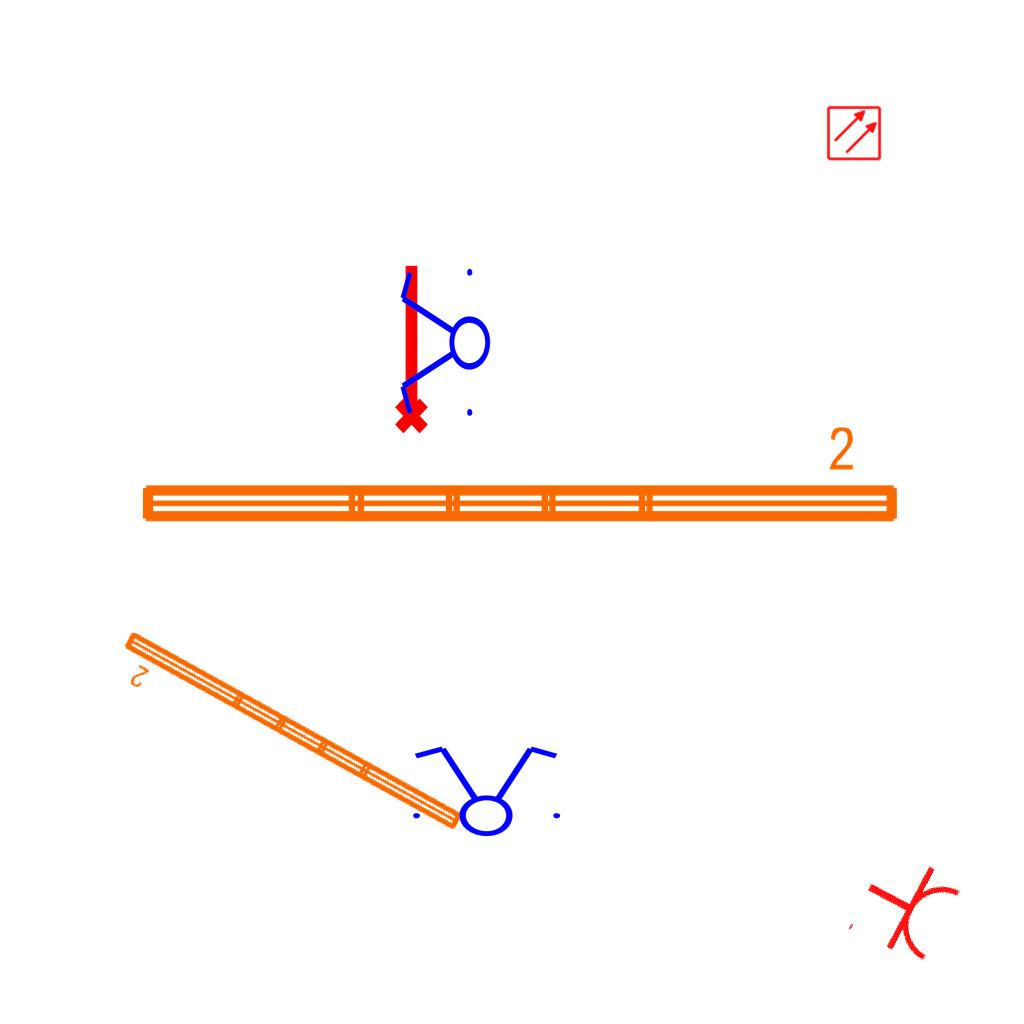ASR_Ansaugoeffnung: (386, 260, 432, 436)
Ambulanz_Pendelleuchte_LED: (104, 623, 471, 861), (132, 422, 906, 534)
RMO_Rauchmelder_optischer: (826, 105, 882, 161)
Schukosteckdose_einfach: (843, 843, 968, 973)
Serienschalter: (401, 742, 569, 838), (396, 260, 492, 428)
